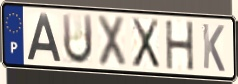A: (25, 11, 63, 63)
H: (164, 20, 196, 73)
K: (200, 21, 226, 74)
U: (60, 12, 94, 67)
X: (96, 13, 128, 70), (130, 16, 161, 70)
